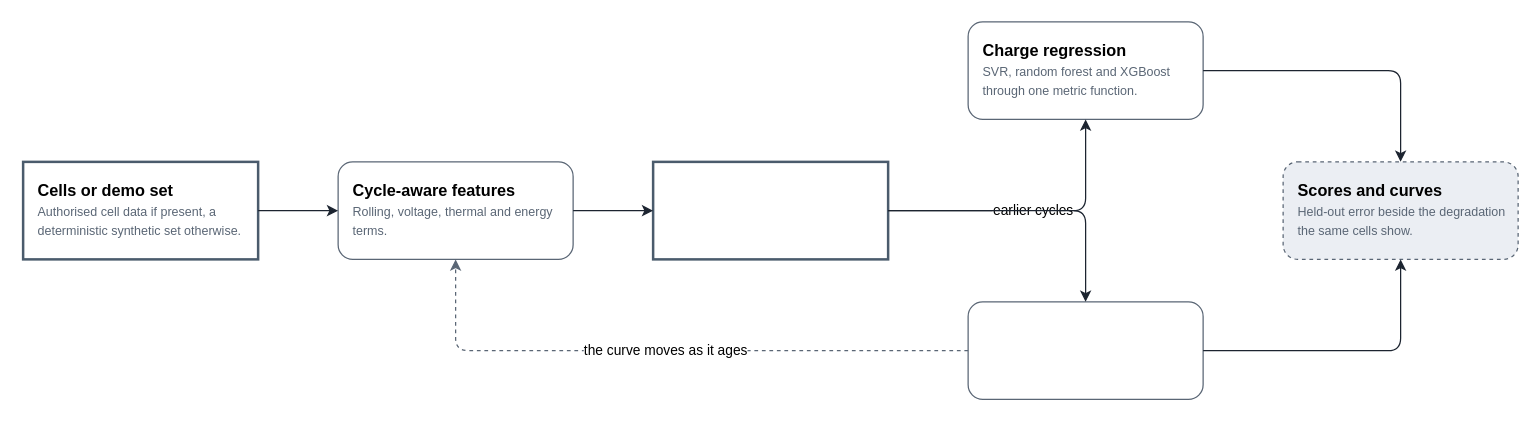
Image size: 1540x421. Some labels were removed from this diagram. Here are the shapes that lost their labels. From the top down, the box of each, then its label:
(651, 160, 889, 260): Last 50 cycles held back By cycle number, never shuffled.
(967, 301, 1203, 399): Analyses beside it Clustering, genetic-fuzzy rules and state-of-health fits.
